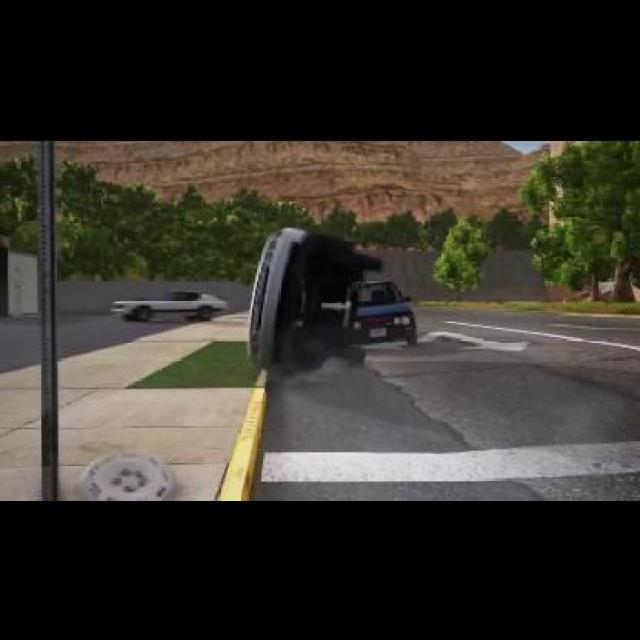accident: (240, 222, 422, 376)
